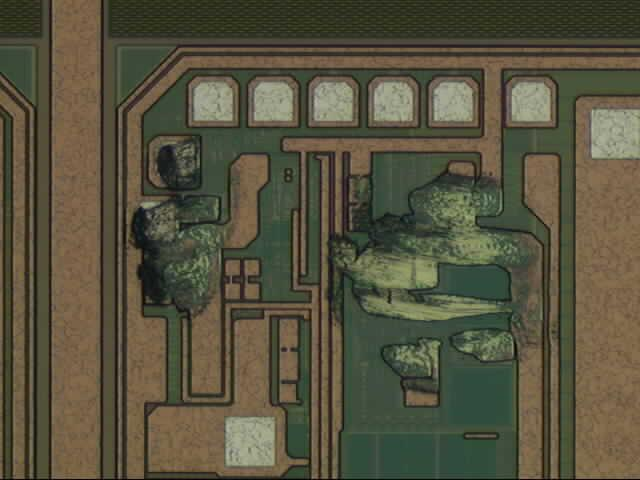SCRATCH: (126, 132, 546, 398)
